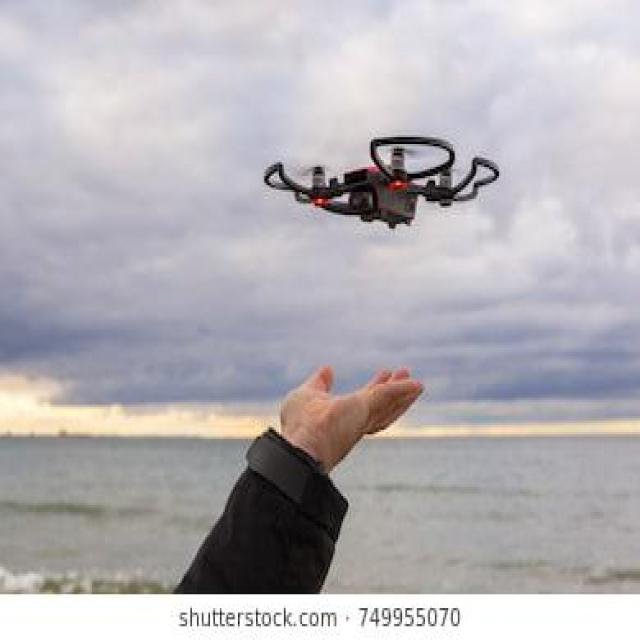drone: (262, 73, 508, 290)
